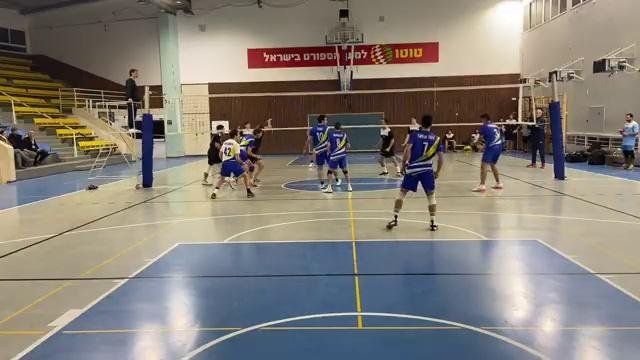ball: (463, 143, 474, 155)
